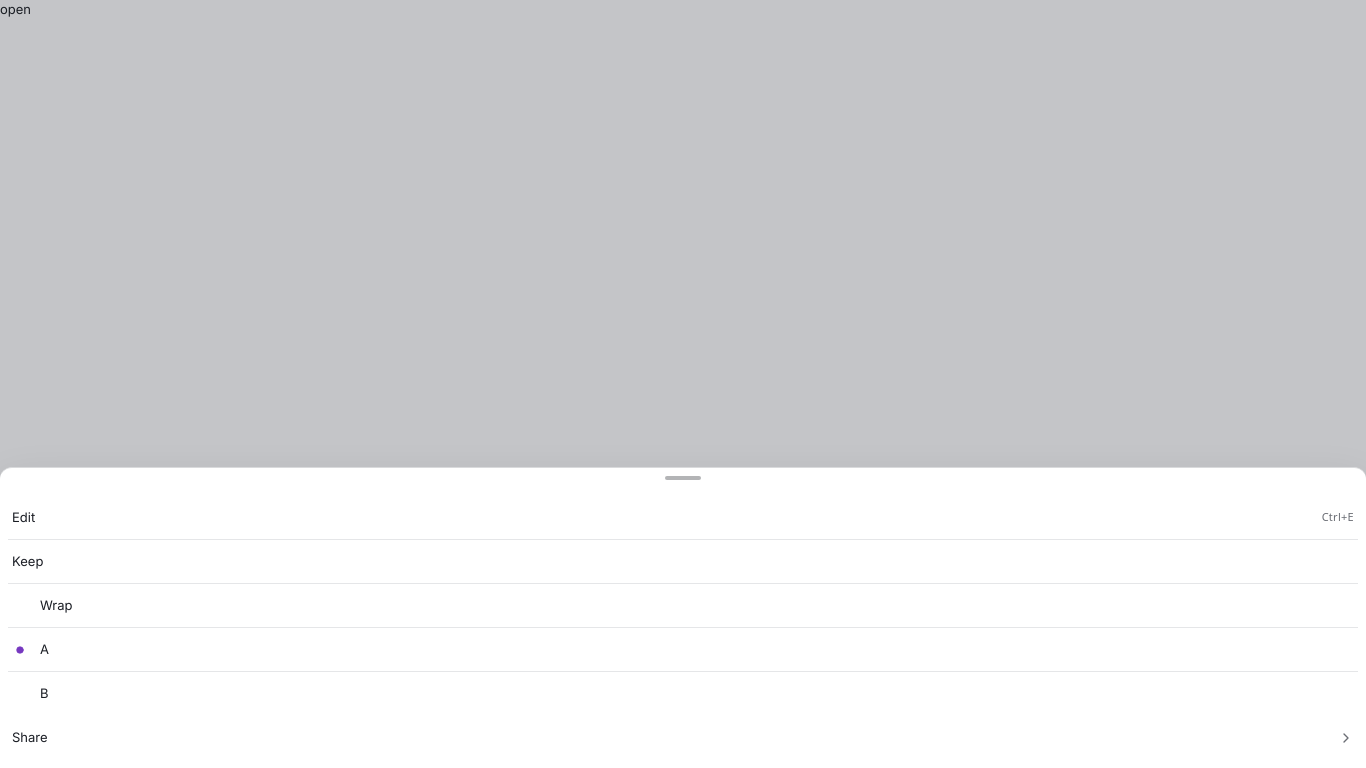
Test: DropdownMenu › expands a submenu in place and keeps the sheet open
Click the button "Share" at (30, 737), box [8, 716, 1358, 760]
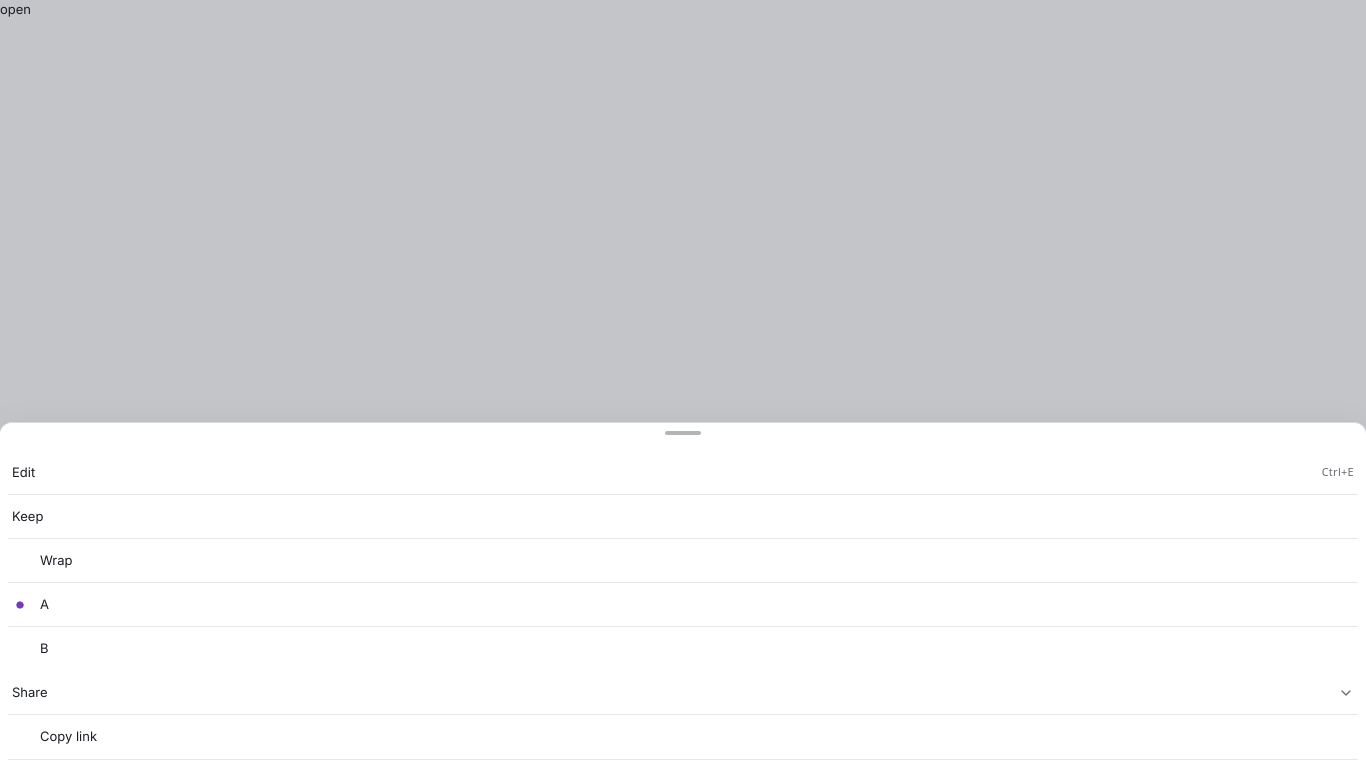
Now the button "Share" is expanded, box [8, 671, 1358, 715]
Now the button "Copy link" is shown, box [36, 715, 1358, 759]
